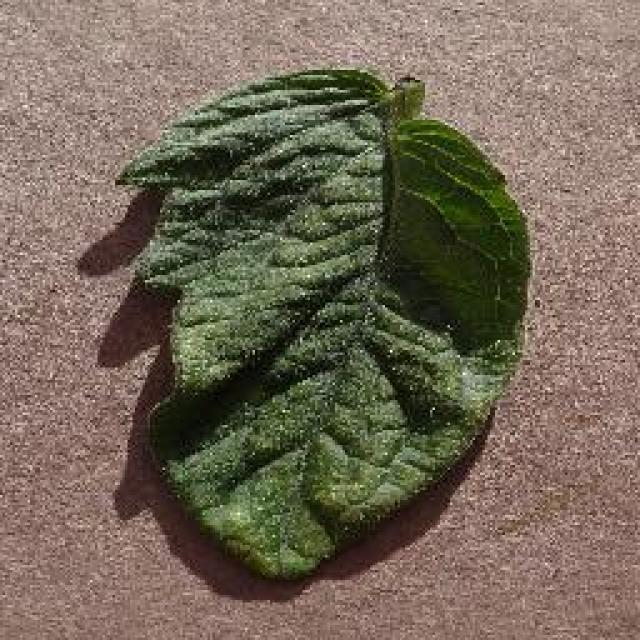Tomato___Spider_mites Two-spotted_spider_mite: (118, 68, 528, 578)
